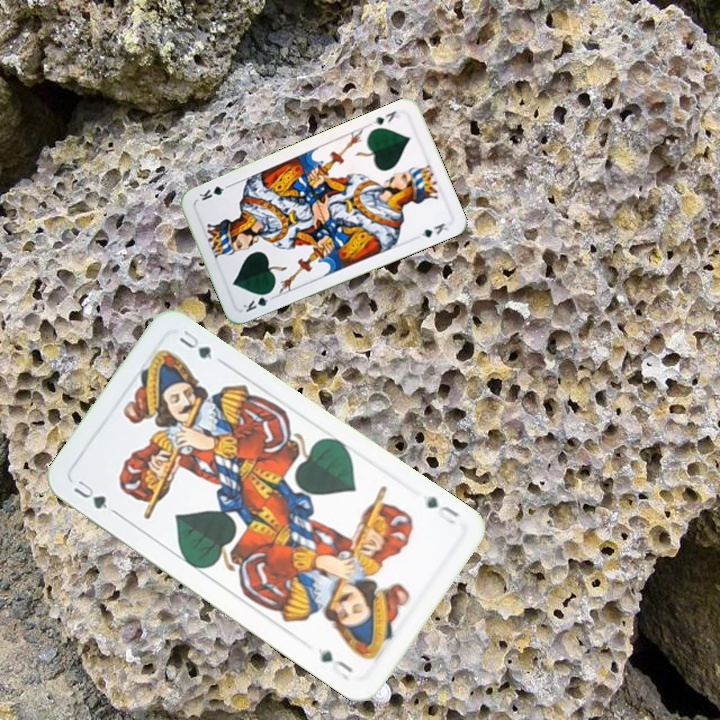GK: (239, 287, 278, 315), (368, 107, 403, 128)
GU: (69, 476, 110, 512), (422, 492, 462, 528)
